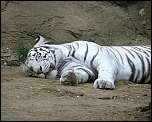tigre: (22, 34, 152, 89)
